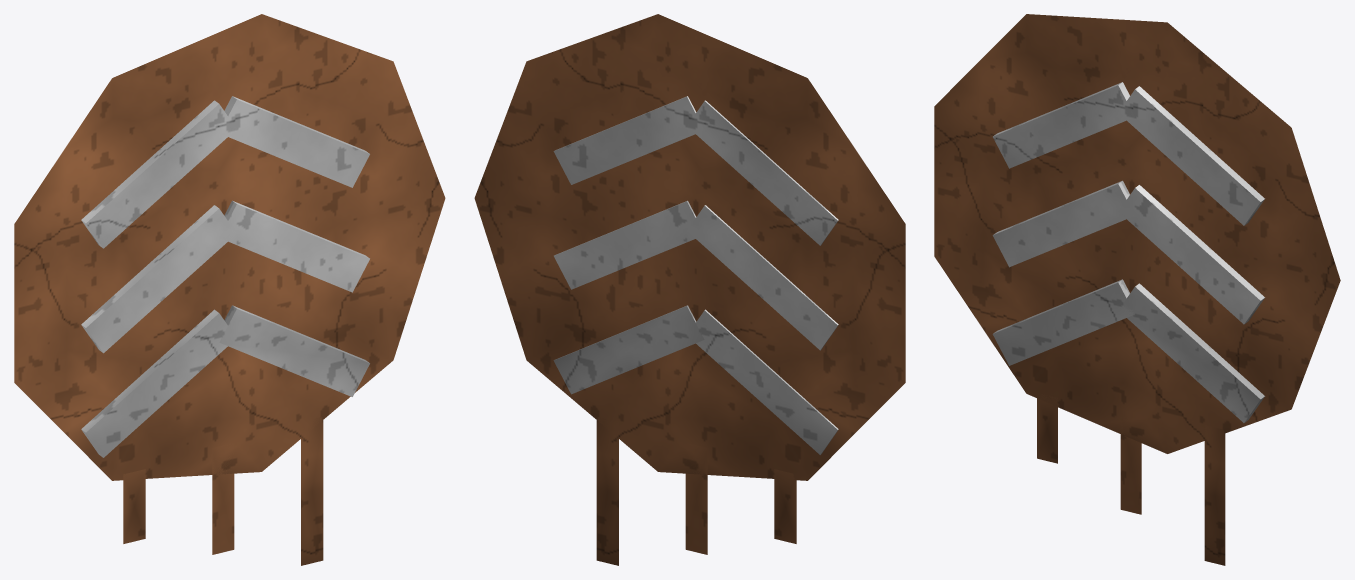
File: tag_colonie.glb
3 views of the same model, side by side, from view 1: azimuth 30°, elevation 25°; view 2: azimuth 150°, elevation 25°; view 3: azimuth 330°, elevation 25° (orthographic). The views are drawn at different scales.
Visible parts, largest first — view 1: group_0, group_5; view 2: group_0, group_5; view 3: group_0, group_5.
Part boxes in pixels (left/top/right/bottom): group_0: left=14, top=14, right=445, bottom=565; group_5: left=81, top=96, right=369, bottom=457; group_0: left=474, top=14, right=905, bottom=565; group_5: left=553, top=96, right=838, bottom=454; group_0: left=934, top=14, right=1340, bottom=565; group_5: left=992, top=82, right=1264, bottom=422.
Bounding box in the file's own units: 3.88 × 4.83 × 0.09.
2 materials, 2 textured.
